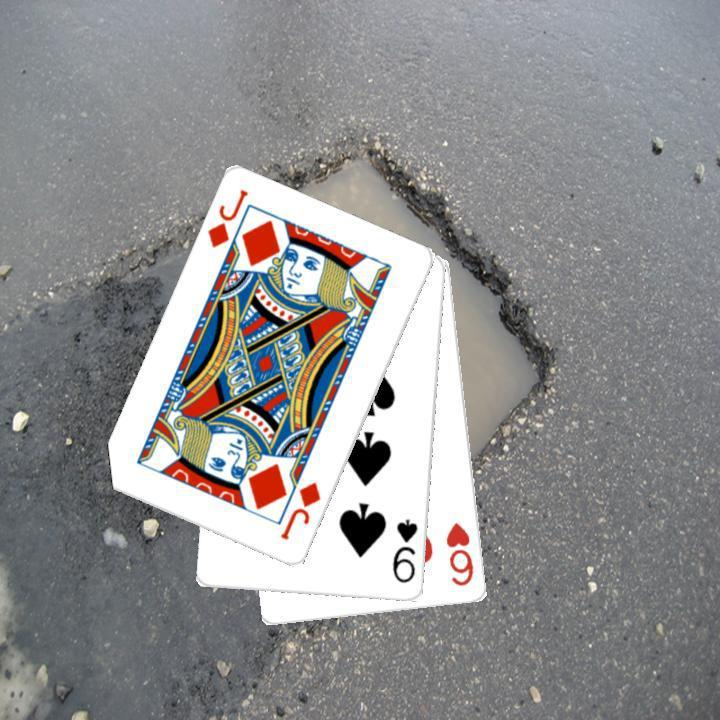6: (442, 519, 476, 589)
9: (388, 515, 420, 586)
J: (203, 185, 251, 251), (276, 478, 323, 543)
